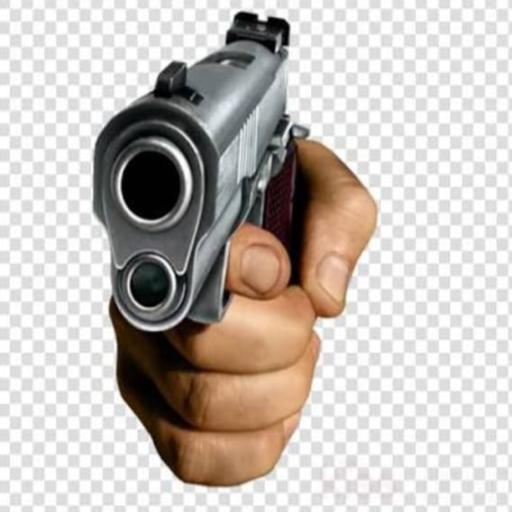Gun: (94, 12, 308, 330)
